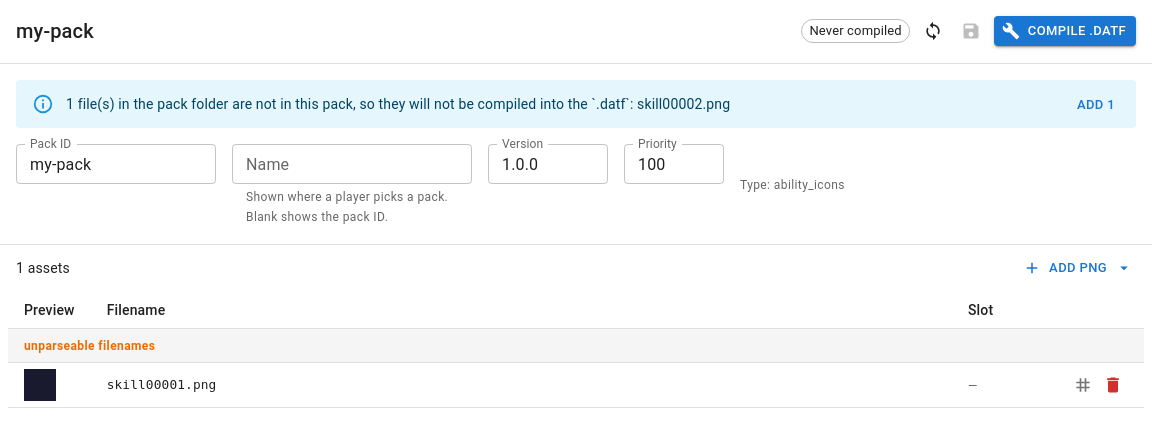
Test: PackEditor - reconciling with the pack folder › adopts the untracked files when asked, and marks the pack unsaved
The width and height of the screenshot is (1152, 425).
Click the button "Add 1" at (1096, 105), box [1064,90,1128,121]
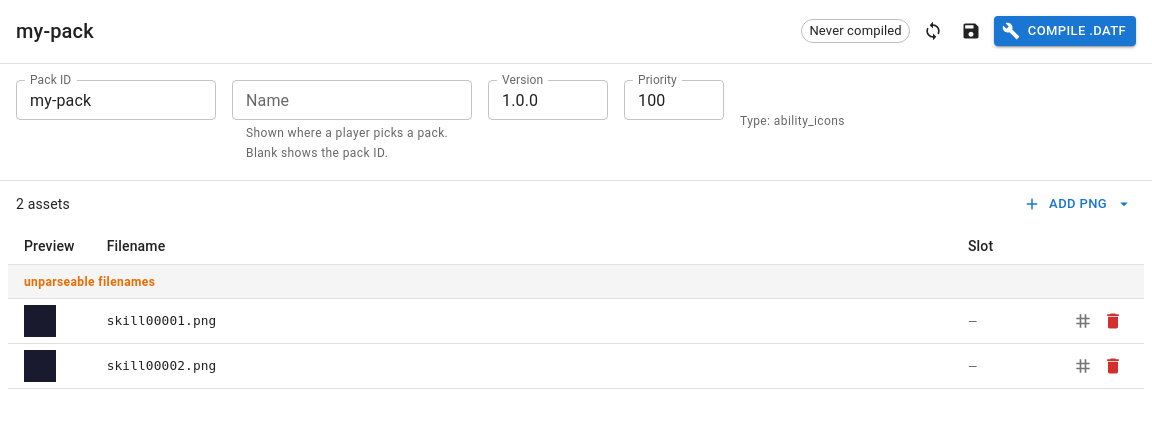
Expected: the button named "delete skill00002.png" is shown, [1098,352,1128,382]
